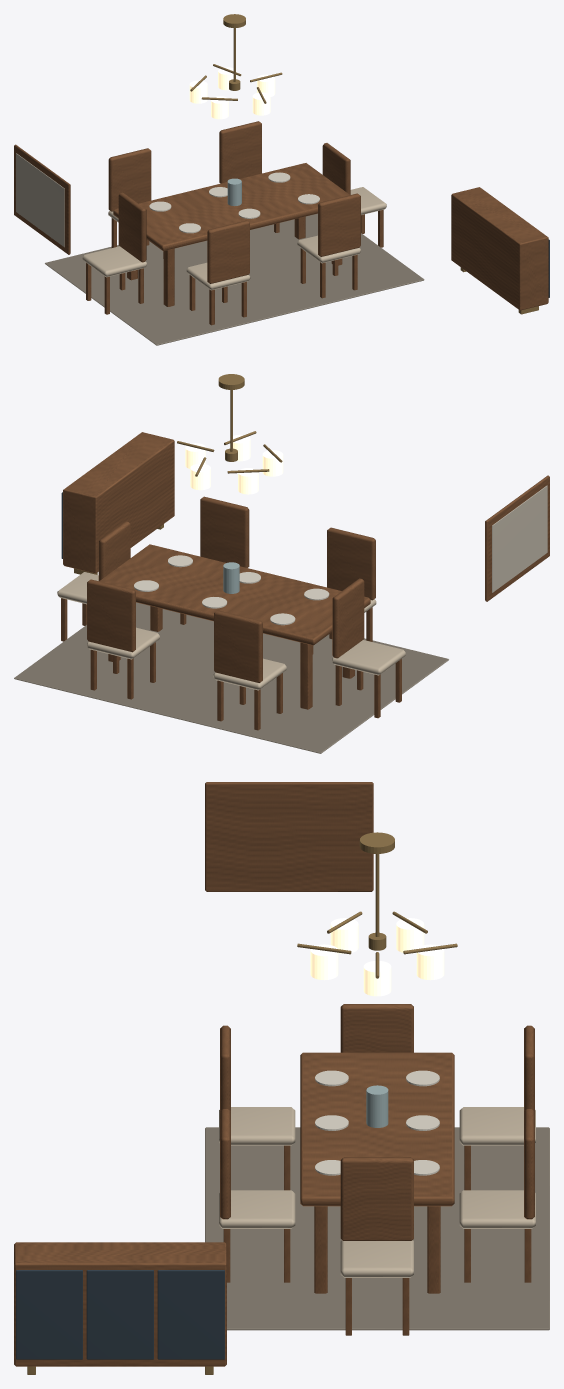
Rendered from dining-furniture-v002.glb.
The picture shows the model from 3 angles, top to bottom: view 1: azimuth 30°, elevation 25°; view 2: azimuth 150°, elevation 25°; view 3: azimuth 270°, elevation 25°; orthographic projection. The views are drawn at different scales.
Visible parts, largest first — view 1: Export Dining table top; view 2: Export Dining table top; view 3: Export Dining table top.
Boxes of the visible parts, x1,y1,x2,y2 form: Export Dining table top: (14,14,549,345); Export Dining table top: (14,374,549,753); Export Dining table top: (14,782,549,1374).
Size of the model in its own units: 5.1 by 2.95 by 3.65.
9 materials, 1 textured.
